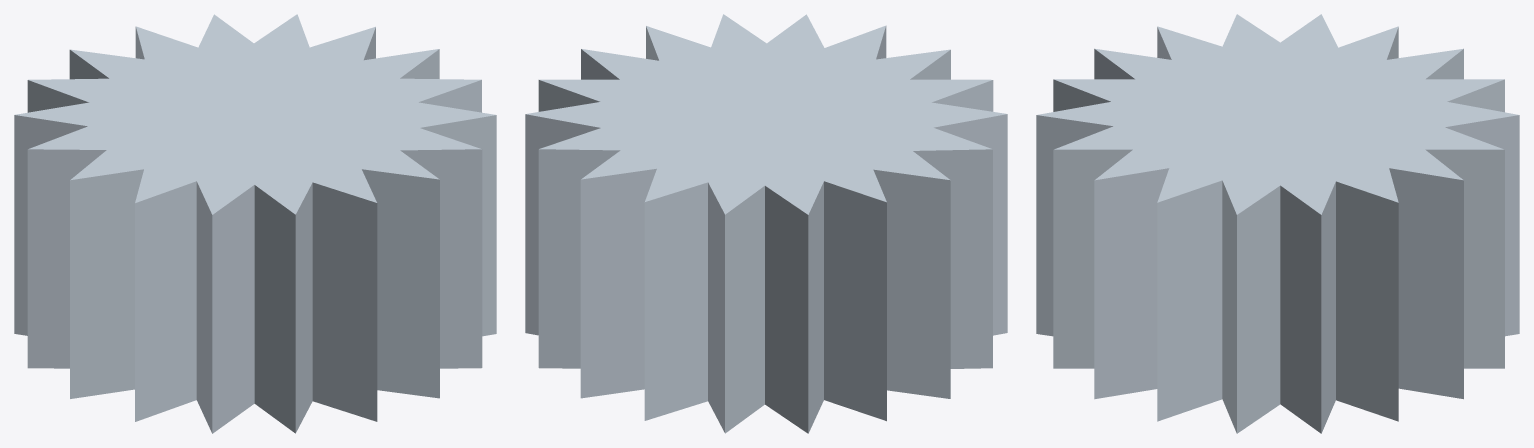
The model's file is gia.FBX.
3 views of the same model, side by side, from view 1: azimuth 30°, elevation 25°; view 2: azimuth 150°, elevation 25°; view 3: azimuth 270°, elevation 25° (orthographic).
Visible parts, largest first — view 1: VIFS001; view 2: VIFS001; view 3: VIFS001.
Part boxes in pixels (x1,y1,x2,y2): VIFS001: [14, 14, 496, 433]; VIFS001: [525, 14, 1007, 433]; VIFS001: [1036, 14, 1519, 433].
Bounding box in the file's own units: 0.197 × 0.1 × 0.2.
